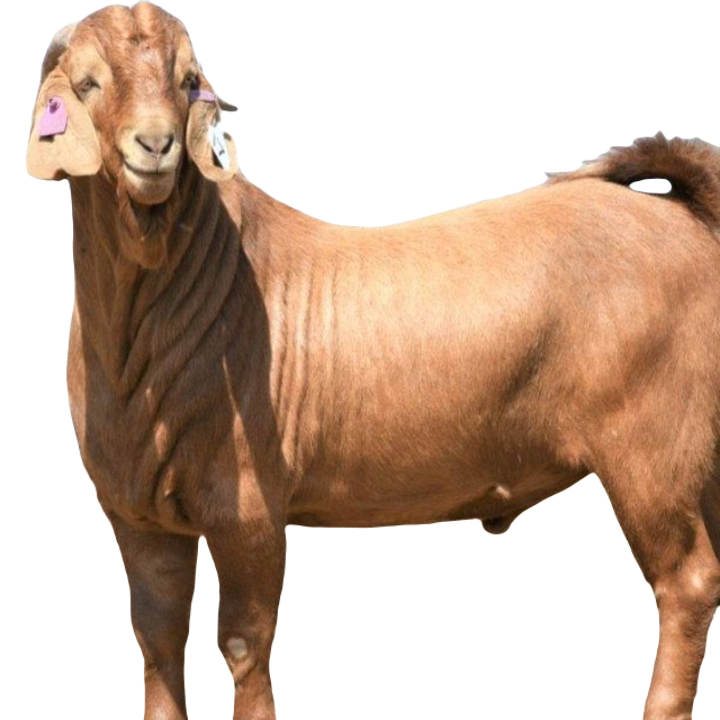Goat: (33, 0, 719, 719)
